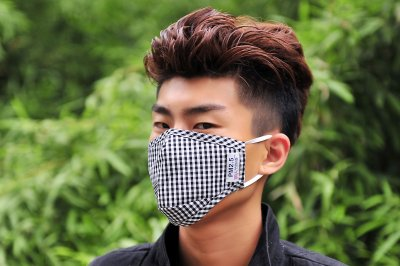face_mask: (148, 72, 258, 226)
